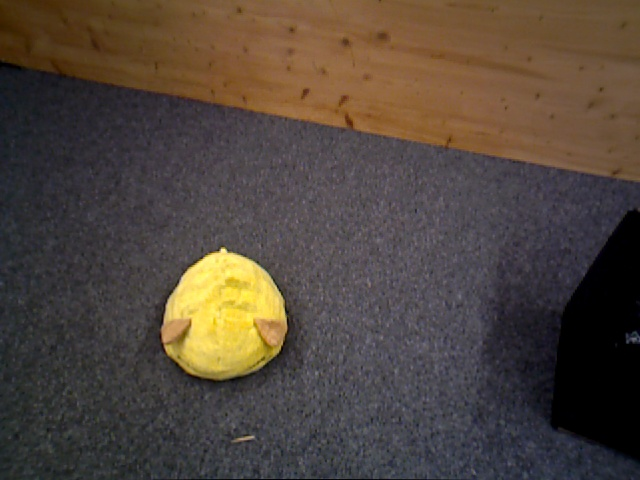grasp: (161, 246, 288, 382)
push: (553, 205, 640, 456)
